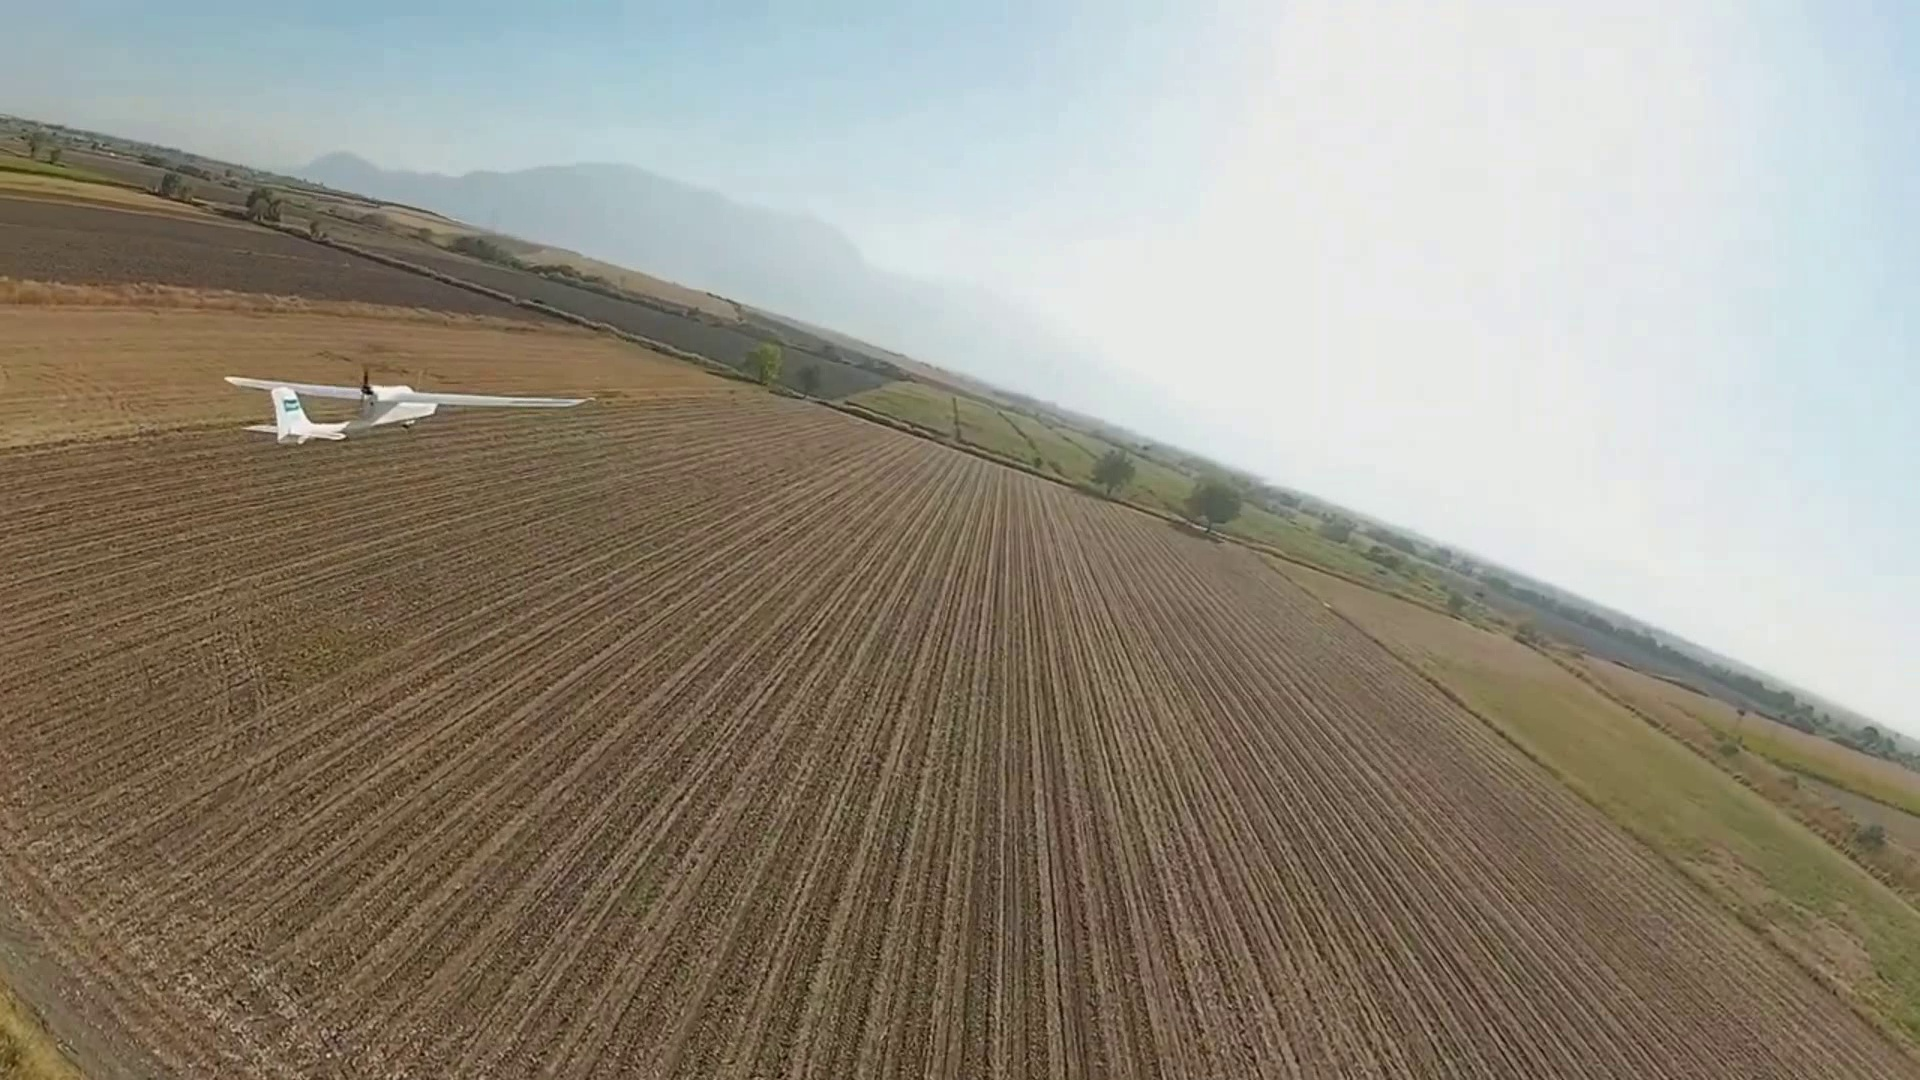airplane: (221, 373, 587, 442), (224, 370, 439, 442)
